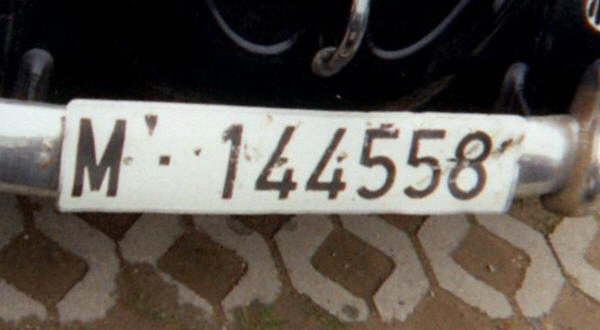license_plate: (56, 96, 525, 215)
